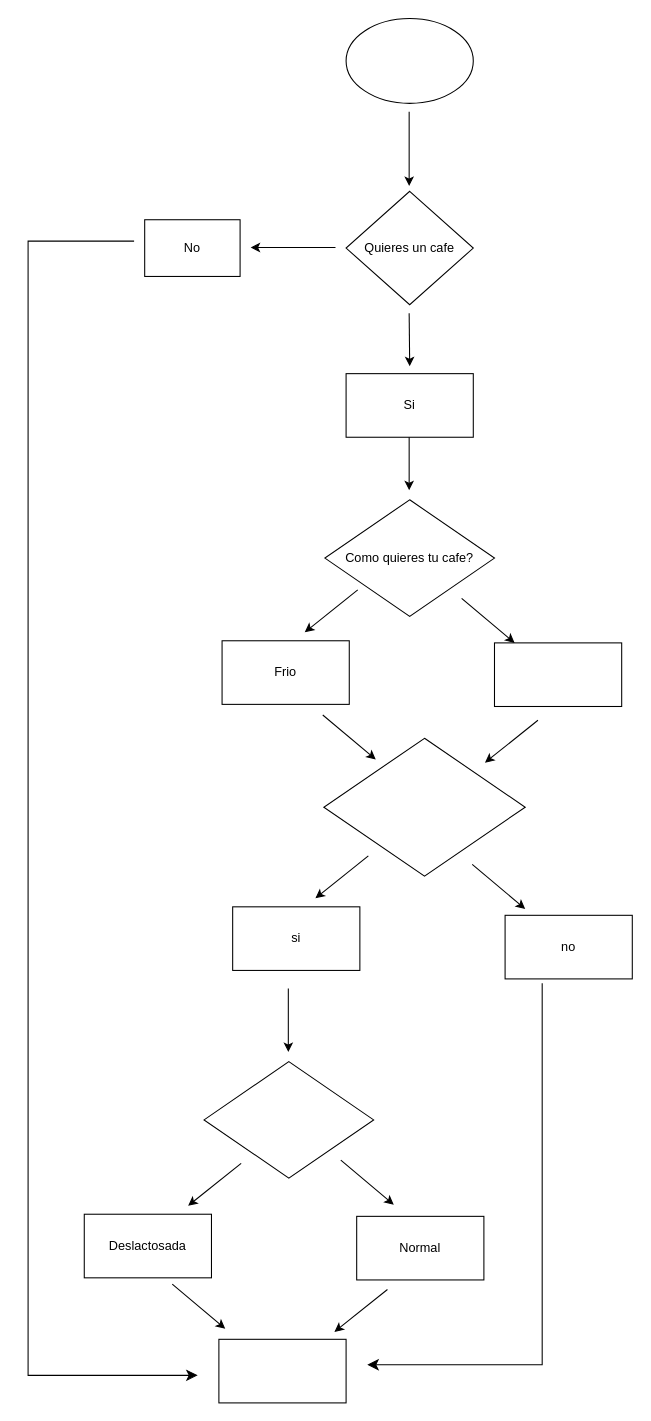
Image size: 651x1421. Some labels were removed from this diagram. The centre of each missing label's shape, as x and y in pixels:
Caliente: (557,674)
De que tipo de leche: (288,1119)
Fin: (282,1370)
Inicio: (409,60)
Quieres que a tu cafe se le agrege leche: (424,806)
